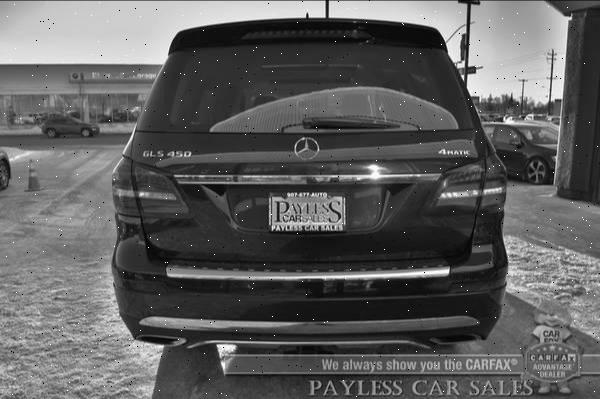Left_Taillight: (110, 152, 192, 218)
Rear_Bumper: (111, 209, 507, 348)
Rear_Windshield: (137, 20, 483, 139)
Right_Taillight: (421, 151, 509, 217)
Tailgate: (121, 126, 494, 263)
